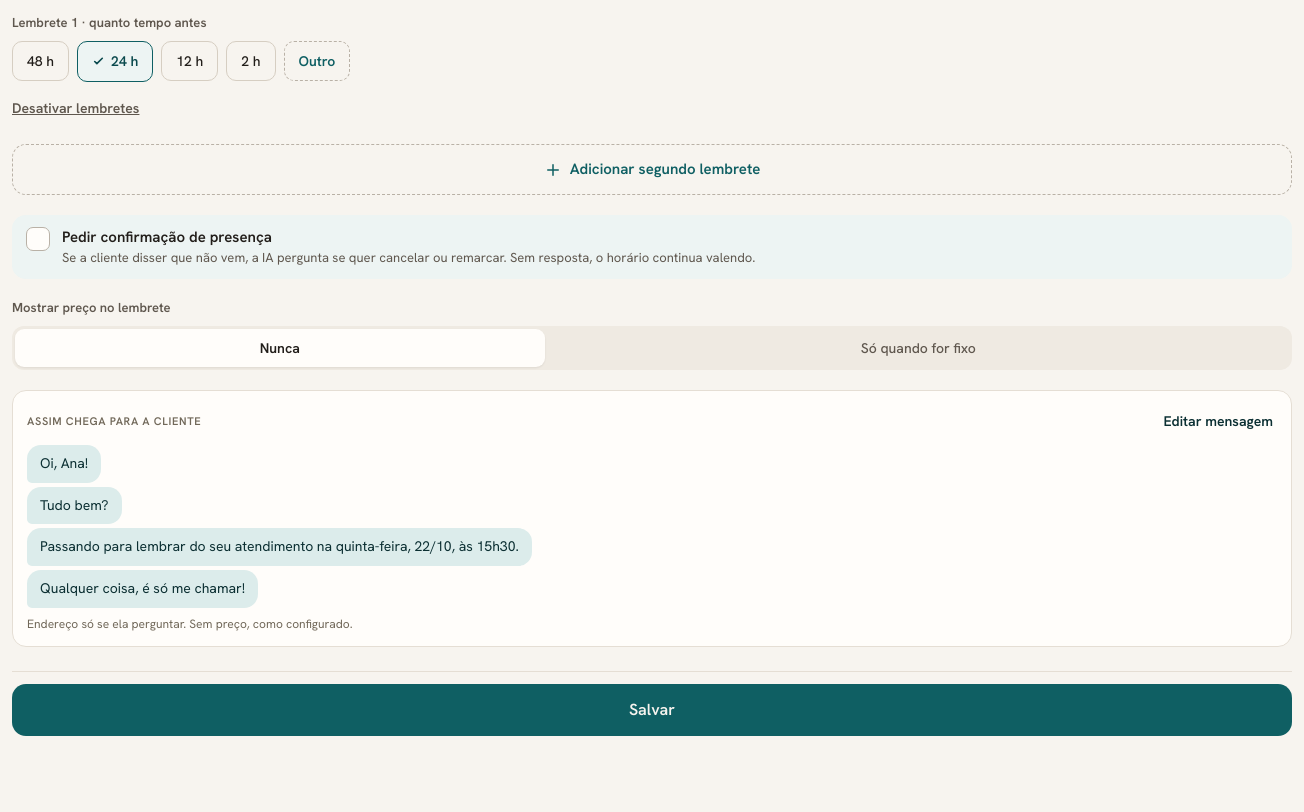
Test: adiciona e remove o segundo lembrete sem afetar o primeiro
Click the button "Adicionar segundo lembrete".
click(652, 170)  # box [12, 144, 1292, 195]
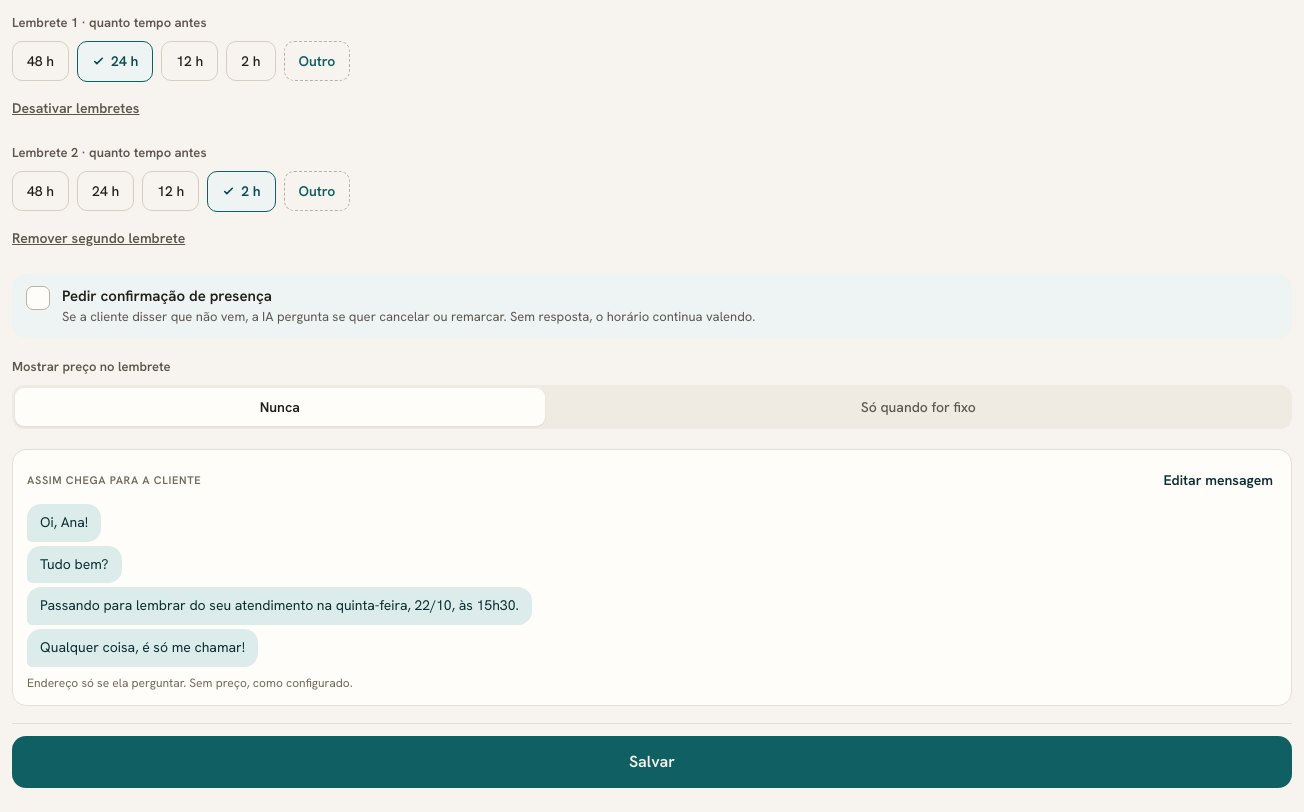
Result: the text "Lembrete 2 · quanto tempo antes" is shown at [12, 144, 206, 161]
Click the button "Remover segundo lembrete".
click(99, 238)  # box [12, 222, 185, 254]
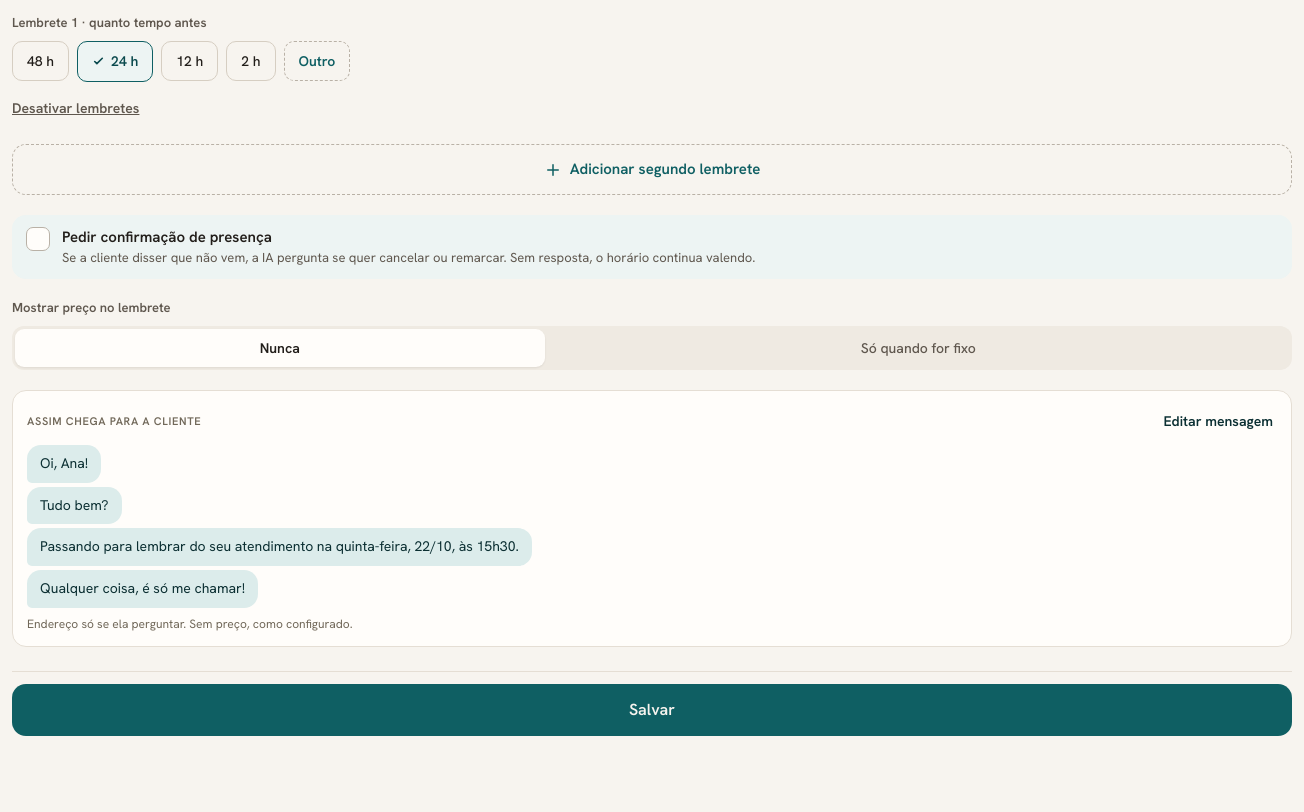
Expected: the text "Lembrete 1 · quanto tempo antes" is shown, [12, 14, 206, 31]
Result: the text "Lembrete 2 · quanto tempo antes" is gone
